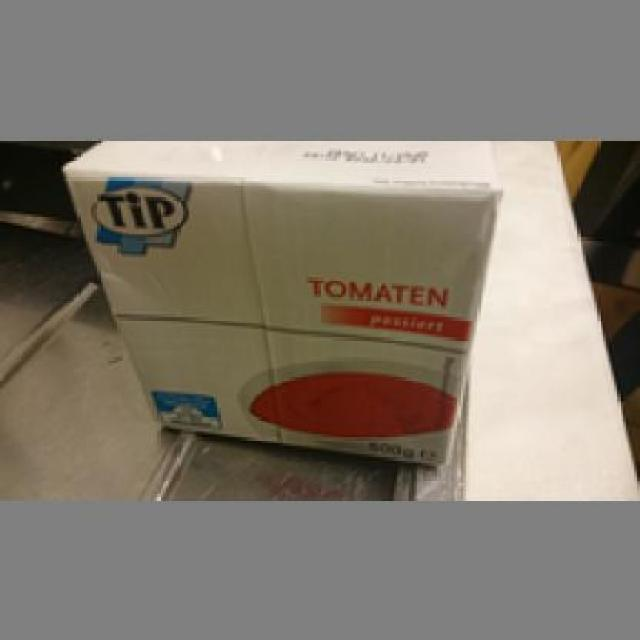Tomato Sauce: (57, 137, 503, 463)
